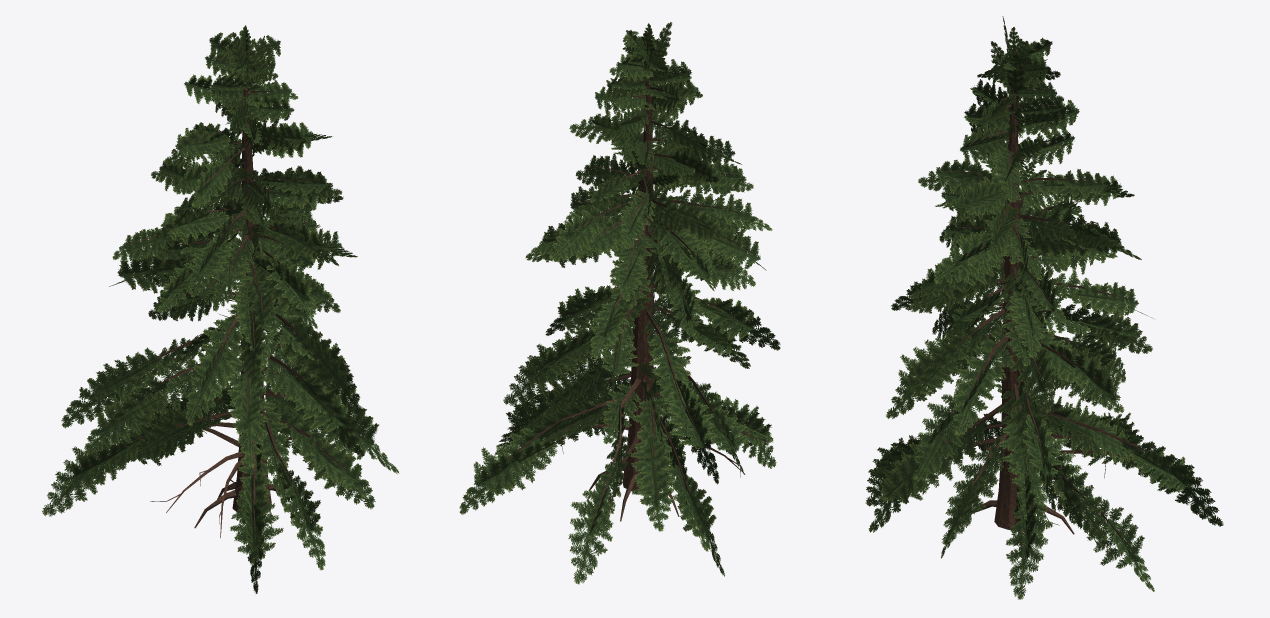
The model's file is pine_c.glb.
3 renders of one model, left to right at view 1: azimuth 30°, elevation 25°; view 2: azimuth 150°, elevation 25°; view 3: azimuth 270°, elevation 25°, orthographic. The views are drawn at different scales.
Parts seen in each view (by area): view 1: pine_c_pine_needles_c, pine_c_bark_pine; view 2: pine_c_pine_needles_c, pine_c_bark_pine; view 3: pine_c_pine_needles_c, pine_c_bark_pine.
Boxes of the visible parts, box(x1,y1,x2,y2) form: pine_c_pine_needles_c: box(42, 25, 399, 593); pine_c_bark_pine: box(81, 43, 365, 538); pine_c_pine_needles_c: box(459, 22, 780, 584); pine_c_bark_pine: box(489, 42, 771, 528); pine_c_pine_needles_c: box(865, 16, 1223, 599); pine_c_bark_pine: box(896, 45, 1147, 560).
Bounding box in the file's own units: 7.03 × 10.97 × 7.7.
Materials: 2 (2 with a texture image).
